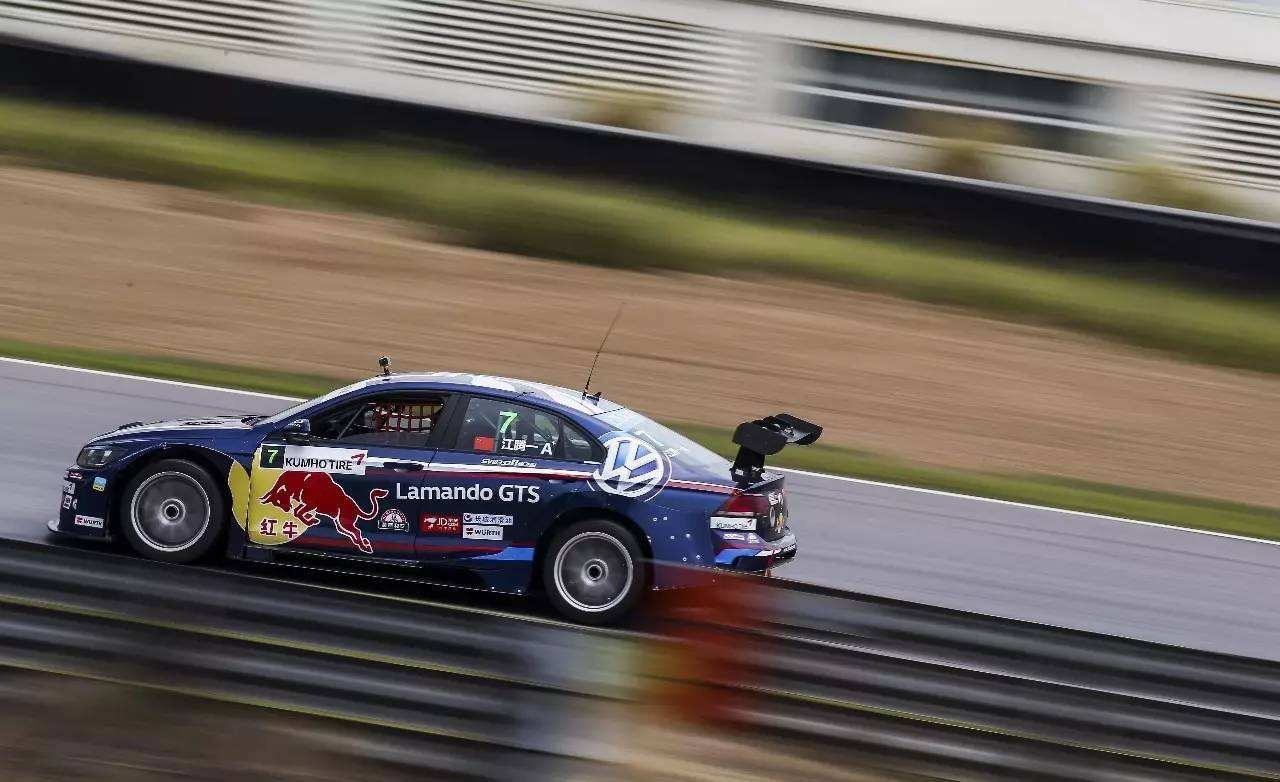racing car: (74, 337, 827, 639)
